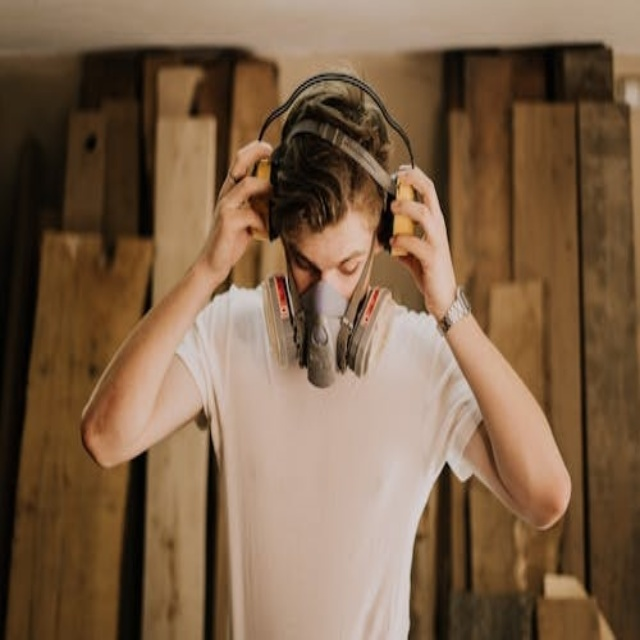Mascara: (265, 247, 389, 388)
Sin_gafas: (285, 238, 369, 284)
Sin_guantes: (195, 138, 280, 277), (396, 160, 453, 309)
